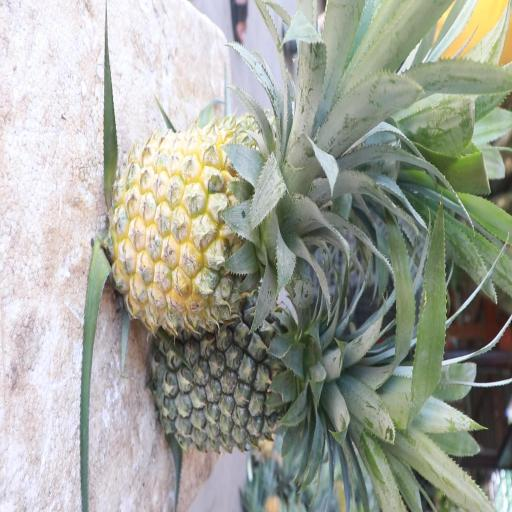Pineapple - v8 v1: (109, 123, 306, 325)
